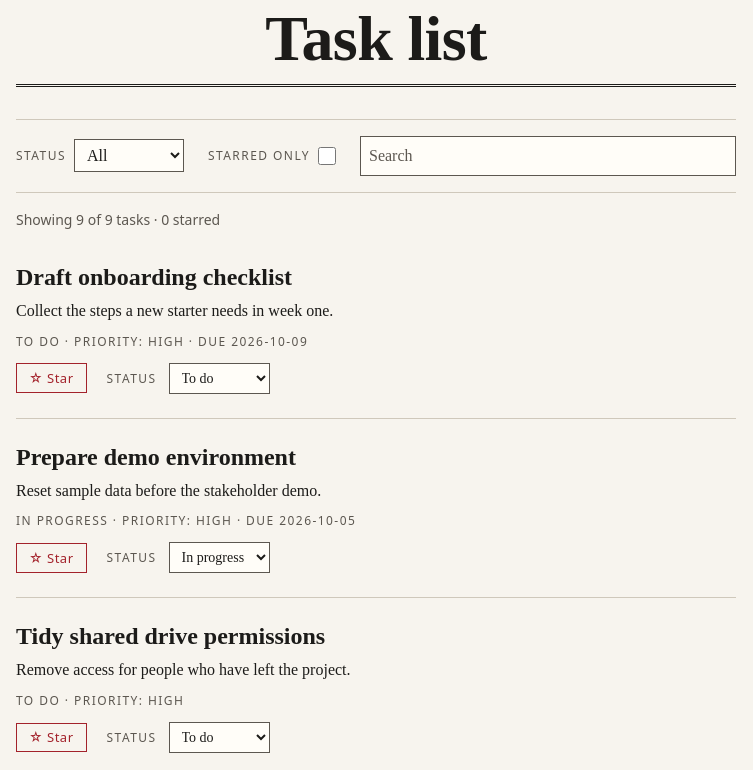
App › filters by status and shows an explicit empty state
Select "Done" in the dropdown labelled "Status" next to "Starred only" at (129, 156), box top-left (74, 140), bottom-right (184, 172)
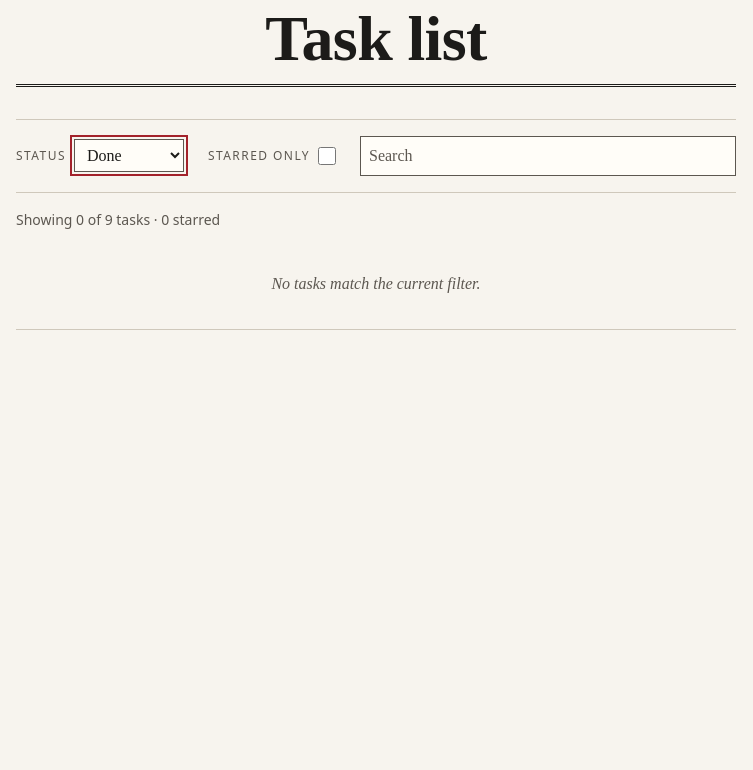
Result: the message reads "No tasks match the current filter." at top-left (271, 275), bottom-right (481, 292)
